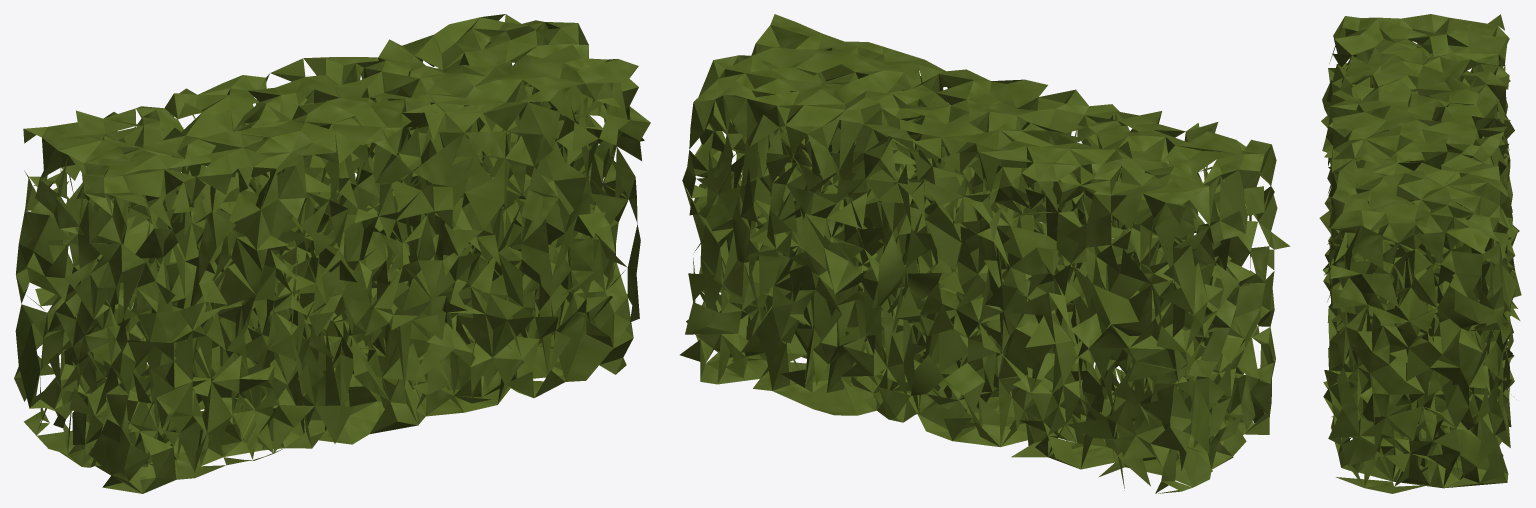
The model's file is prop_hedge.glb.
3 views of the same model, side by side, from view 1: azimuth 30°, elevation 25°; view 2: azimuth 150°, elevation 25°; view 3: azimuth 270°, elevation 25° (orthographic). The views are drawn at different scales.
Parts seen in each view (by area): view 1: Mesh_0; view 2: Mesh_0; view 3: Mesh_0.
Boxes of the visible parts, bbox=[...] form: Mesh_0: bbox=[14, 14, 650, 493]; Mesh_0: bbox=[680, 14, 1290, 493]; Mesh_0: bbox=[1319, 14, 1521, 493].
Size of the model in its own units: 1.88 by 1.03 by 0.7.
1 material, 1 textured.
